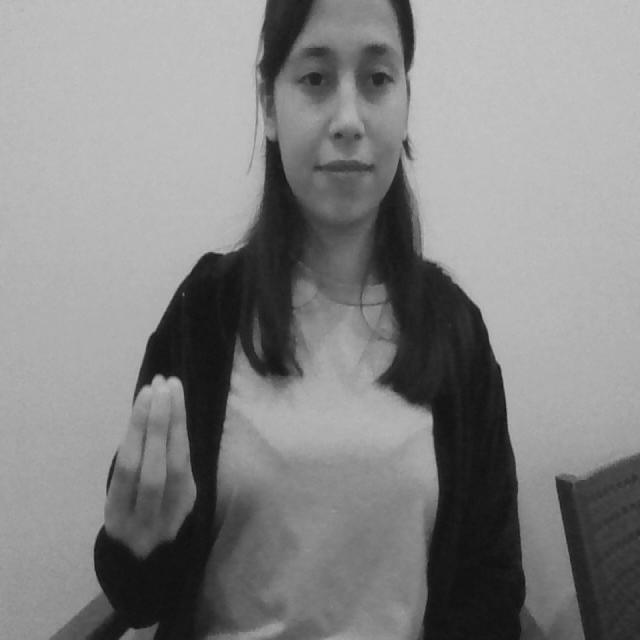iyi: (97, 362, 201, 562)
